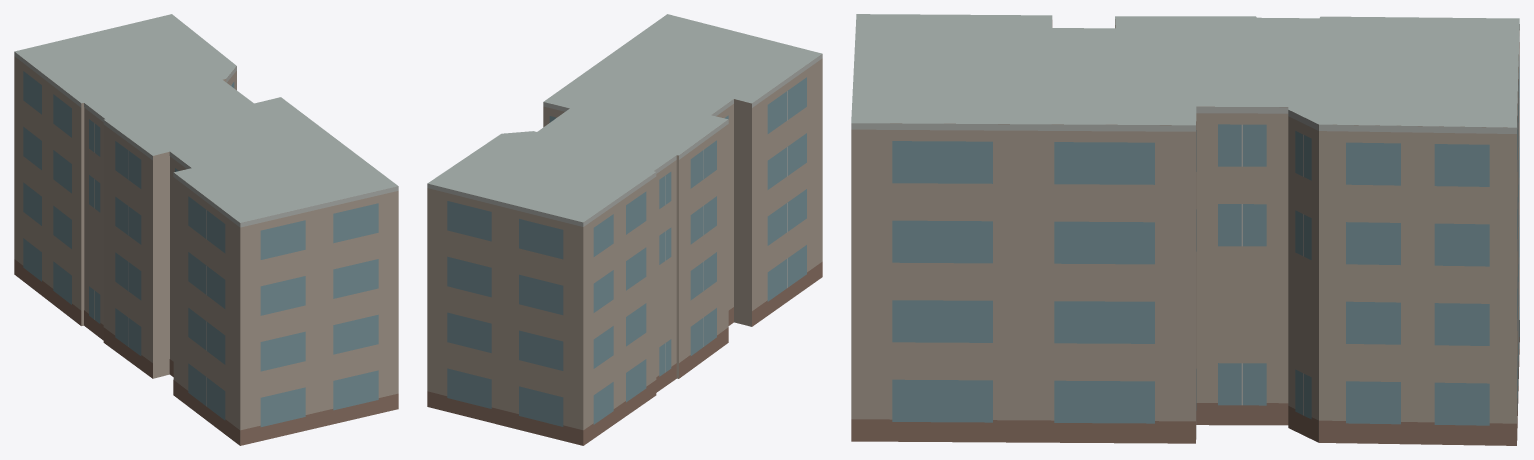
The model's file is survey-upis-32706805.glb.
The picture shows the model from 3 angles, left to right: view 1: azimuth 30°, elevation 25°; view 2: azimuth 150°, elevation 25°; view 3: azimuth 270°, elevation 25°; orthographic projection. The views are drawn at different scales.
Visible parts, largest first — view 1: survey-upis-32706805.tmp; view 2: survey-upis-32706805.tmp; view 3: survey-upis-32706805.tmp.
Boxes of the visible parts, x1,y1,x2,y2 form: survey-upis-32706805.tmp: (14, 14, 398, 445); survey-upis-32706805.tmp: (427, 14, 822, 445); survey-upis-32706805.tmp: (851, 14, 1519, 445).
Bounding box in the file's own units: 9.12 × 11.9 × 22.67.
